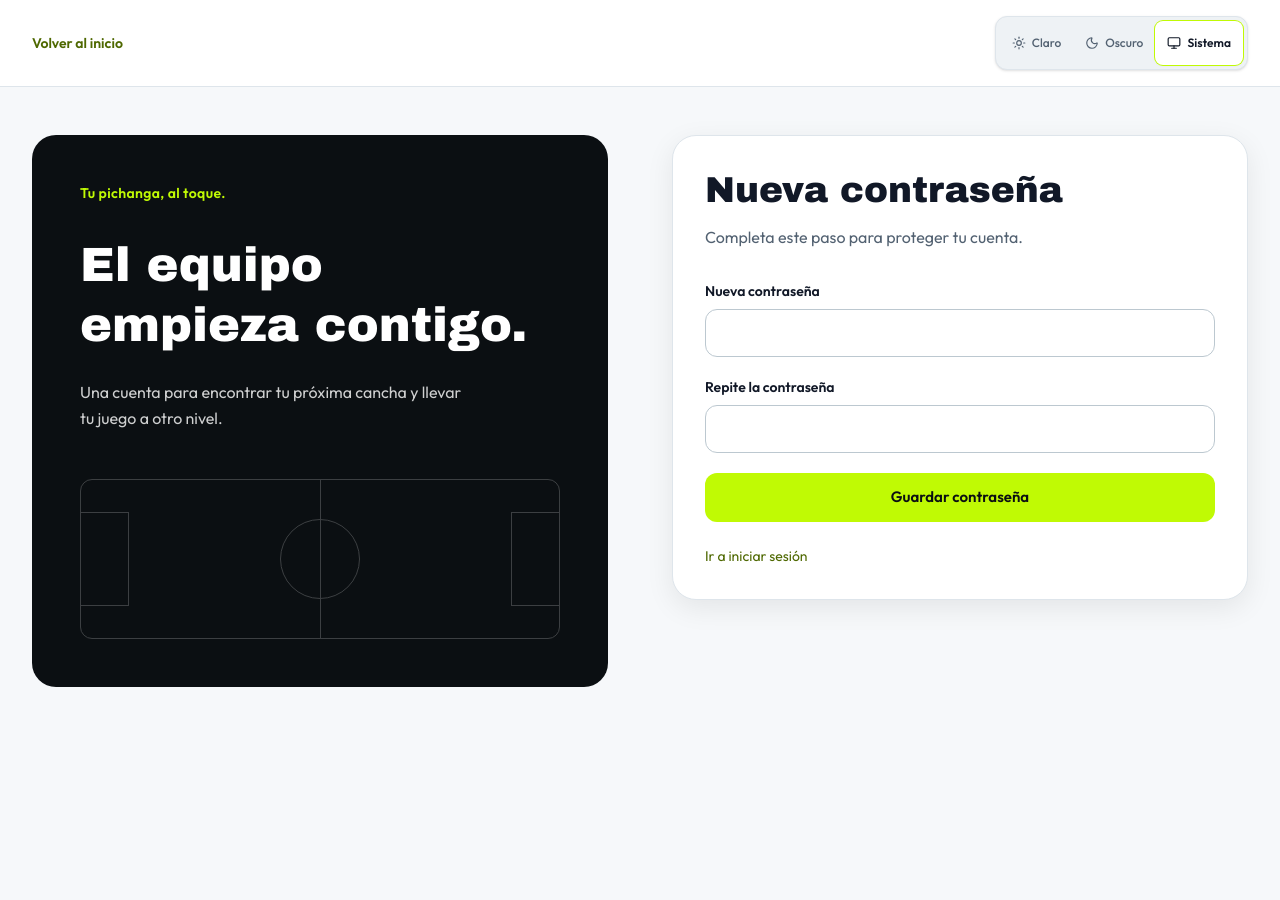
Scenario: restablecimiento envía el token del enlace y una nueva contraseña
This screenshot has width=1280, height=900.
Step 1. Type "Nueva-segura123!" into the password field with id "contrasena" → coordinates (960, 333), box [705, 309, 1215, 357]
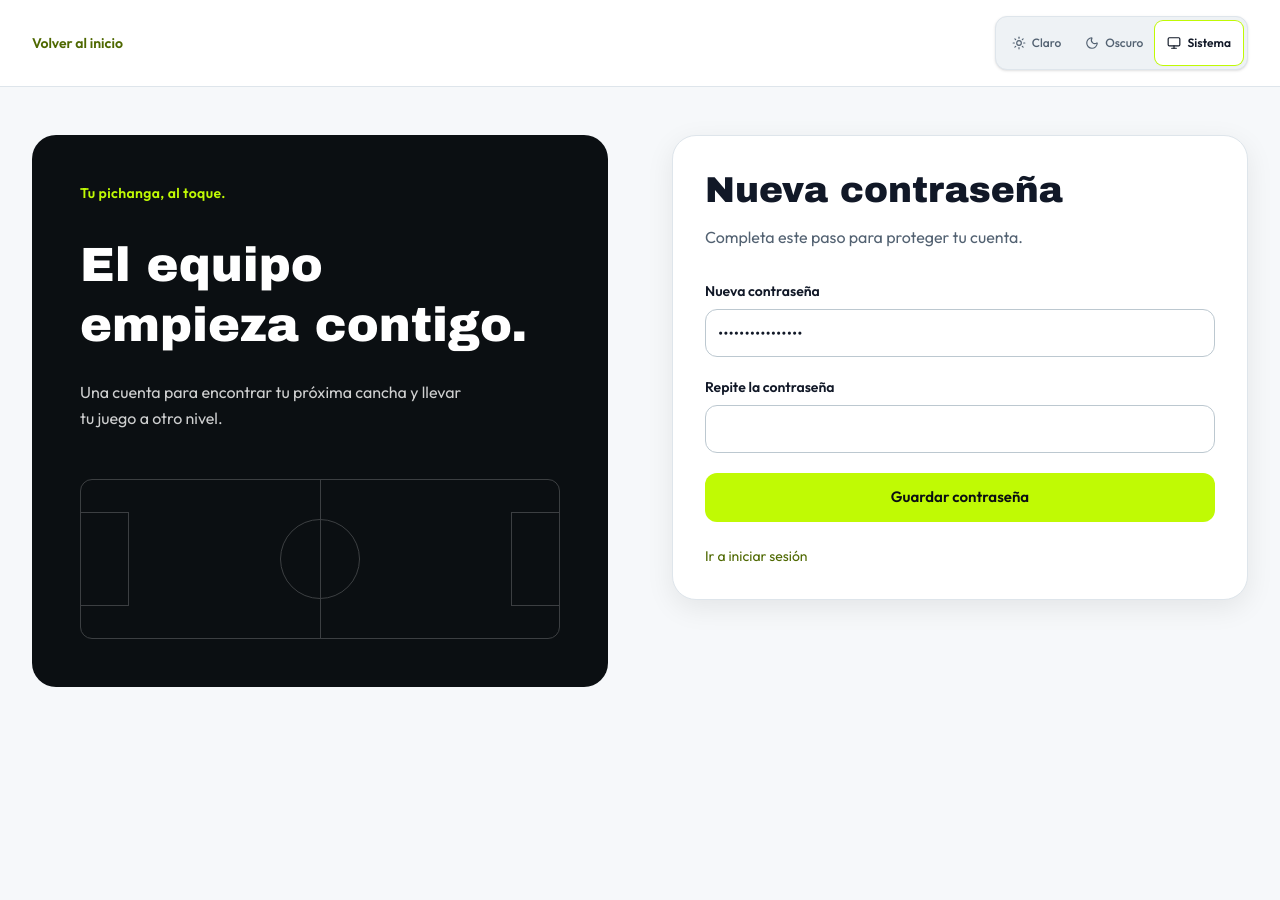
Step 2. Type "Nueva-segura123!" into the password field with id "confirmacion" → coordinates (960, 429), box [705, 405, 1215, 453]
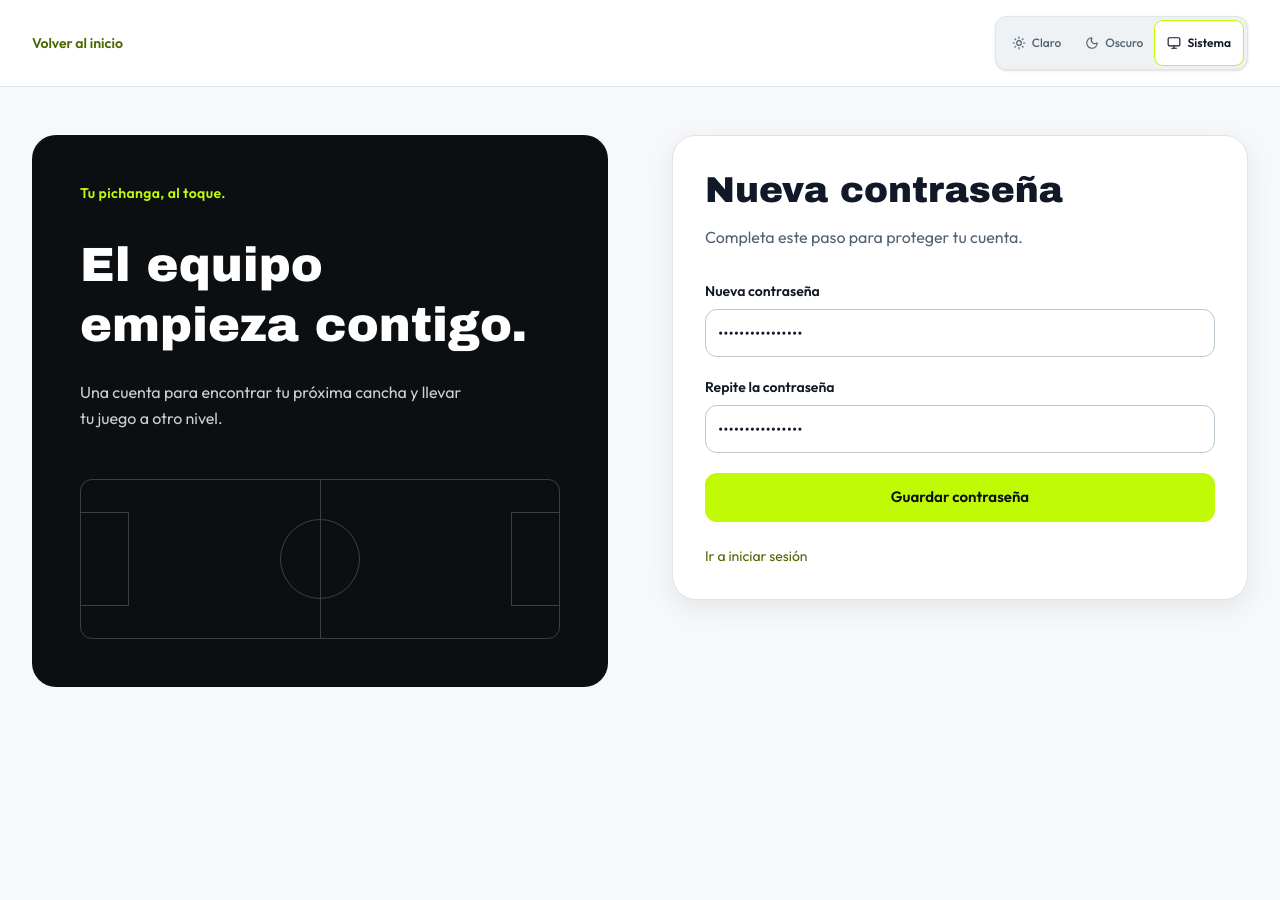
Step 3. Submit the form, box [705, 281, 1215, 522]
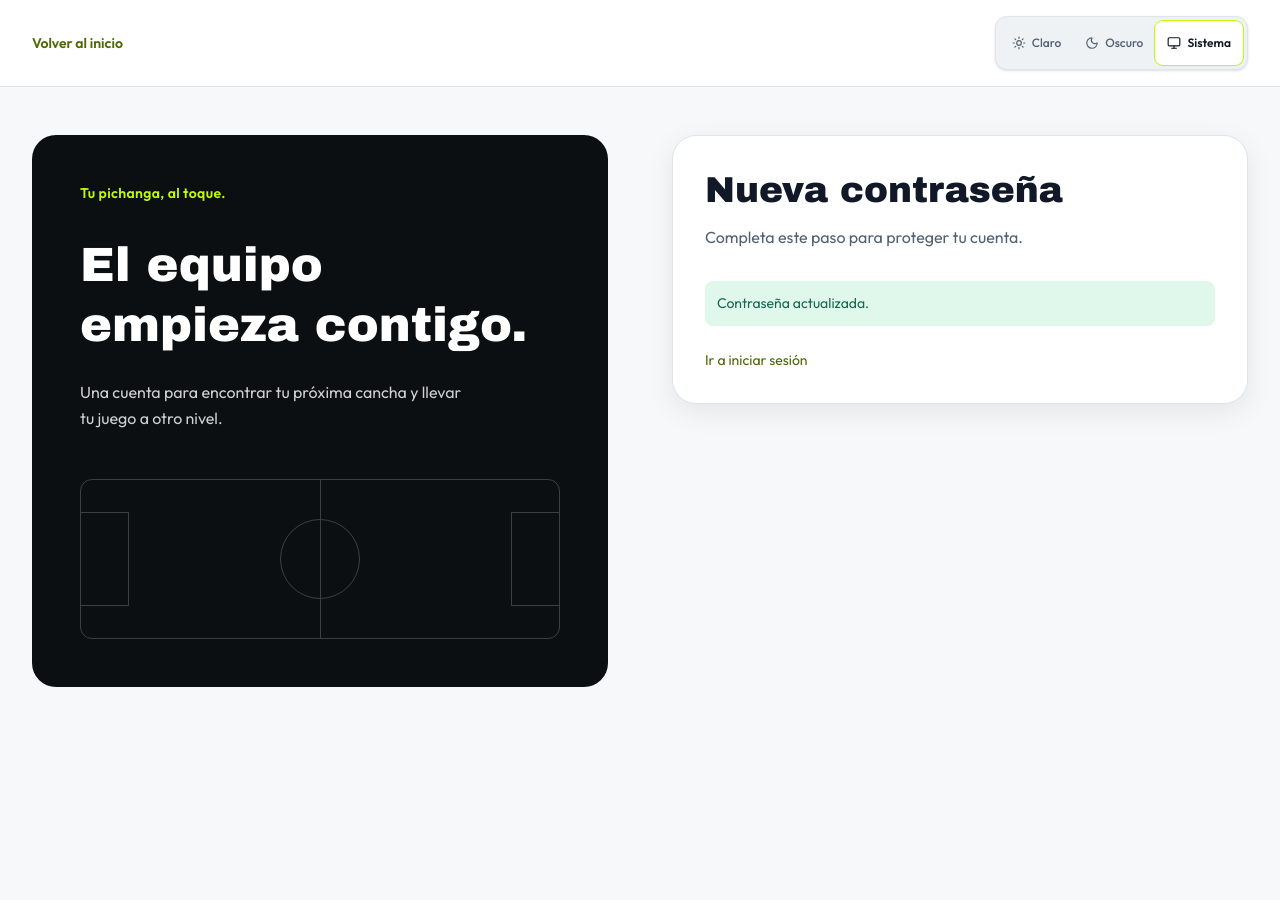
Check: the message "Contraseña actualizada." is shown, box [705, 281, 1215, 326]
